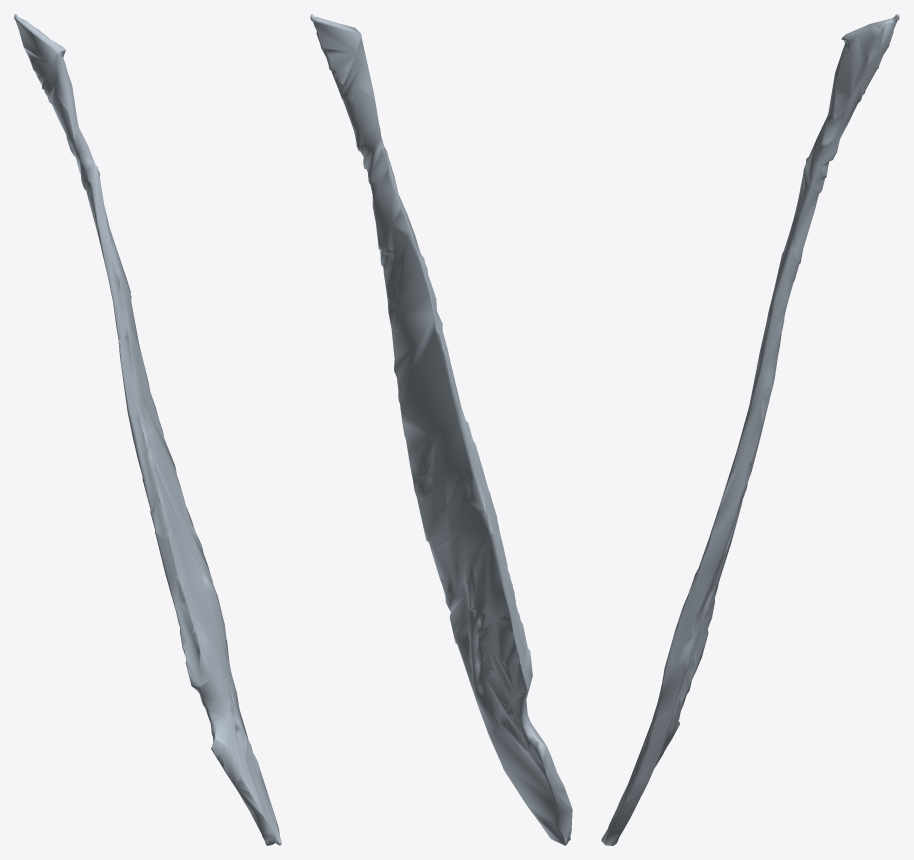
Rendered from interosseous-membrane-of-forearm-r.glb.
3 views of the same model, side by side, from view 1: azimuth 90°, elevation 25°; view 2: azimuth 150°, elevation 25°; view 3: azimuth 270°, elevation 25° (orthographic). The views are drawn at different scales.
Parts seen in each view (by area): view 1: Interosseous membrane of forearm.r; view 2: Interosseous membrane of forearm.r; view 3: Interosseous membrane of forearm.r.
Boxes of the visible parts, <box> form: Interosseous membrane of forearm.r: <box>14,14,281,845</box>; Interosseous membrane of forearm.r: <box>310,14,572,845</box>; Interosseous membrane of forearm.r: <box>601,14,899,845</box>.
Size of the model in its own units: 0.0225 by 0.1615 by 0.0497.
